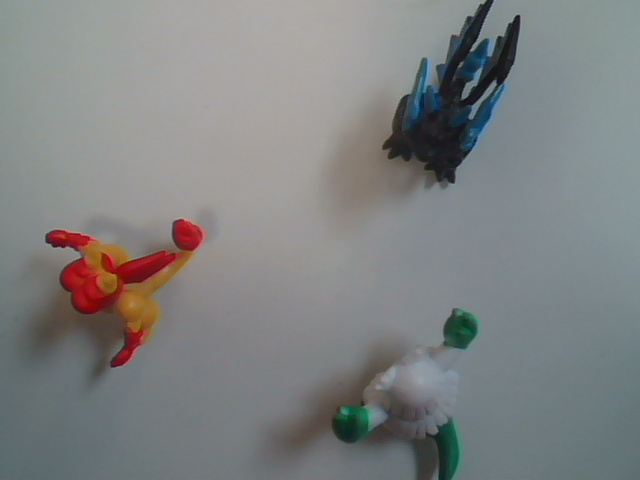abomasnow: (329, 295, 562, 480)
charizard: (322, 0, 543, 210)
magmar: (9, 193, 226, 386)
